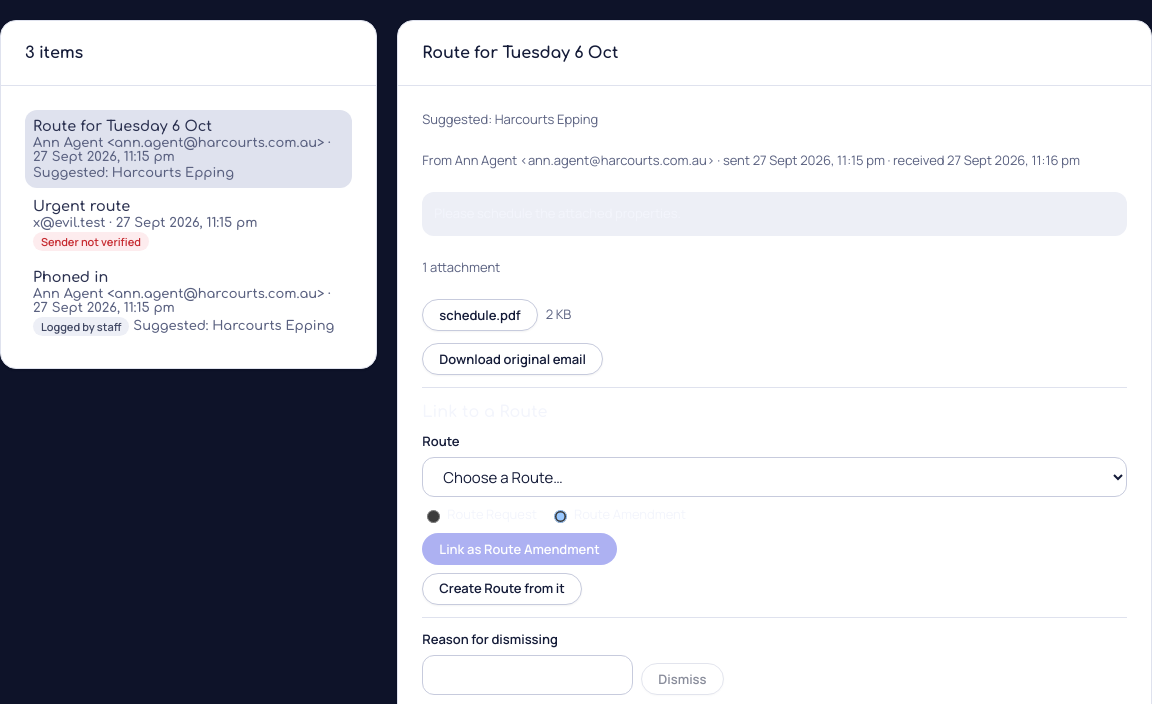
it: AdministratorRouteRequestsPage › says why when dismissing fails
(page scrolled)
Check: the heading "3 items" is shown, box [25,41,83,65]
Type "Spam" into the field labelled "Reason for dismissing" at (528, 675), box [422,655,633,695]
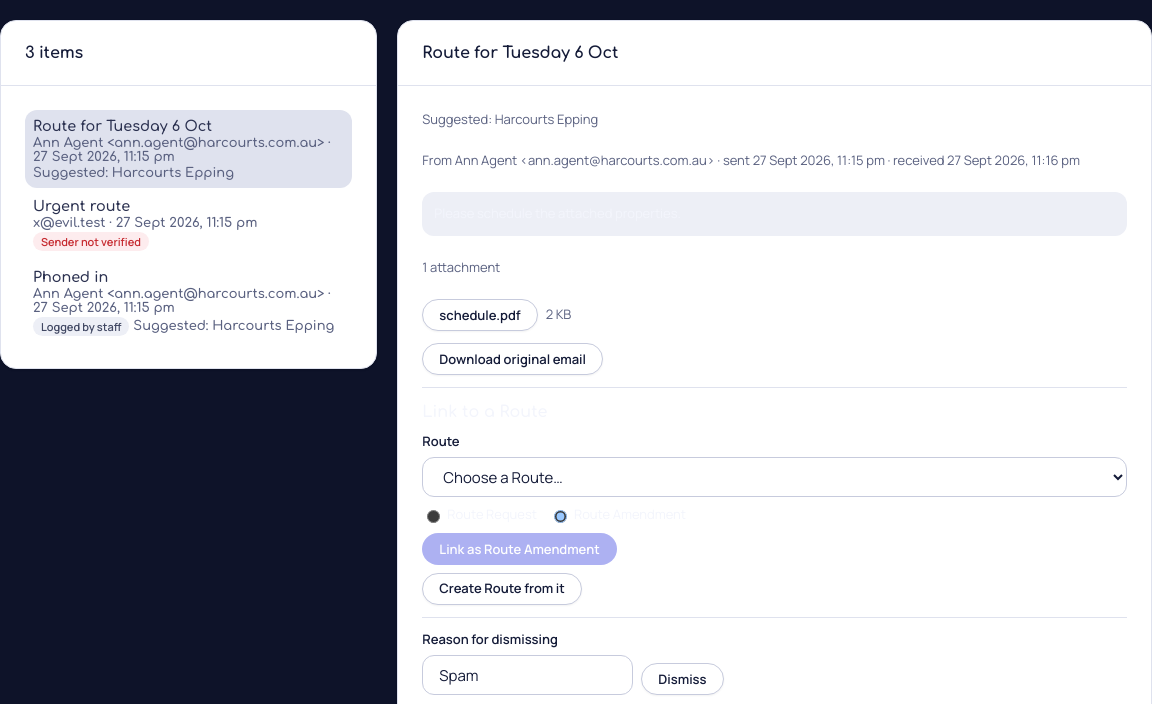
Click the button "Dismiss" at (682, 679), box [641,663,724,695]
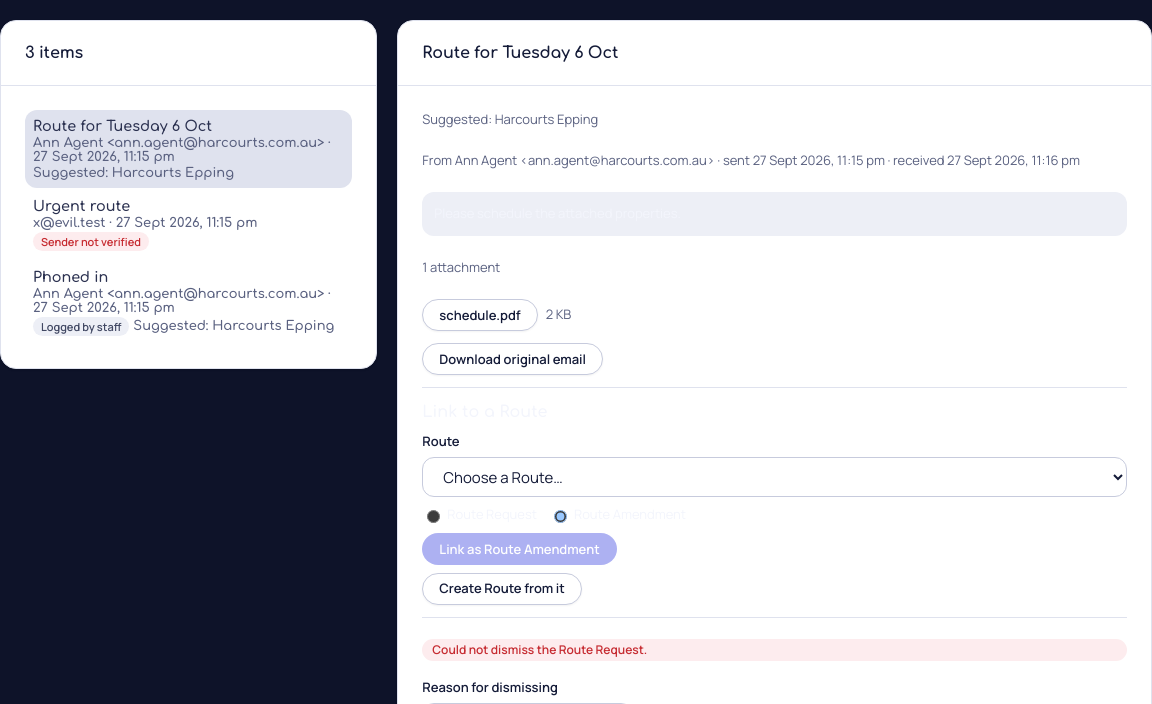
Check: the heading "3 items" is shown, box [25,41,83,65]
Check: the text "Could not dismiss the Route Request." is shown, box [422,639,1127,661]
